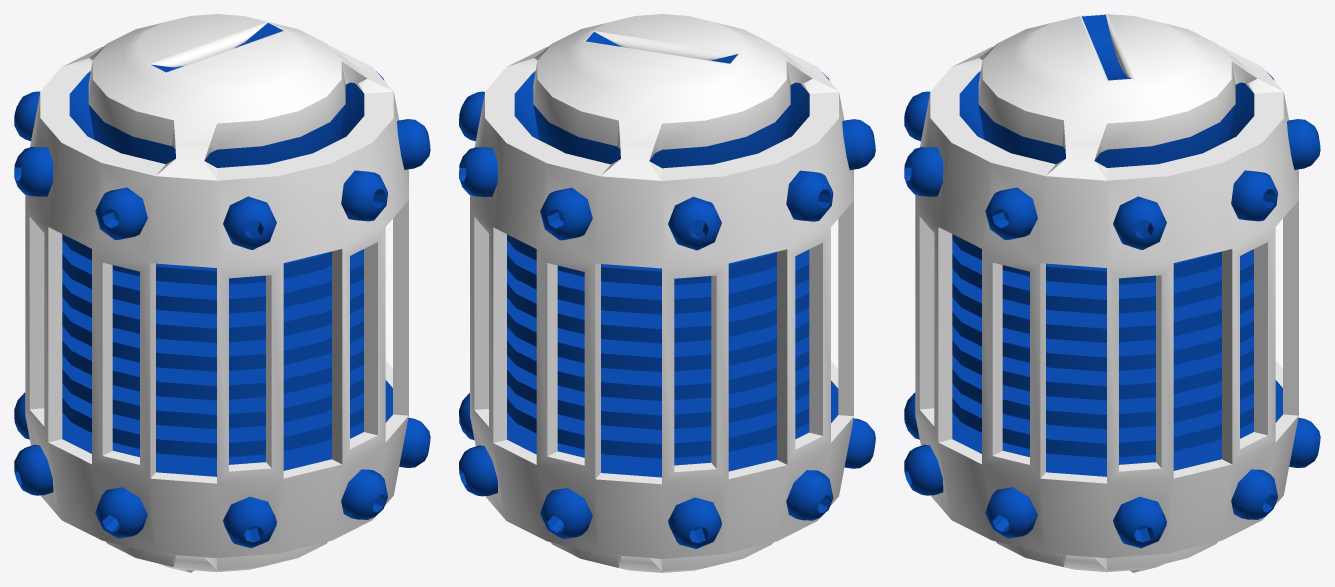
Rendered from Shock Canister.FBX.
3 views of the same model, side by side, from view 1: azimuth 30°, elevation 25°; view 2: azimuth 150°, elevation 25°; view 3: azimuth 270°, elevation 25° (orthographic).
Parts seen in each view (by area): view 1: Cylinder002; view 2: Cylinder002; view 3: Cylinder002.
Boxes of the visible parts, box(x1,y1,x2,y2) form: Cylinder002: box(14, 14, 430, 572); Cylinder002: box(459, 14, 875, 572); Cylinder002: box(904, 14, 1320, 572).
Bounding box in the file's own units: 34.74 × 44.94 × 34.25.
